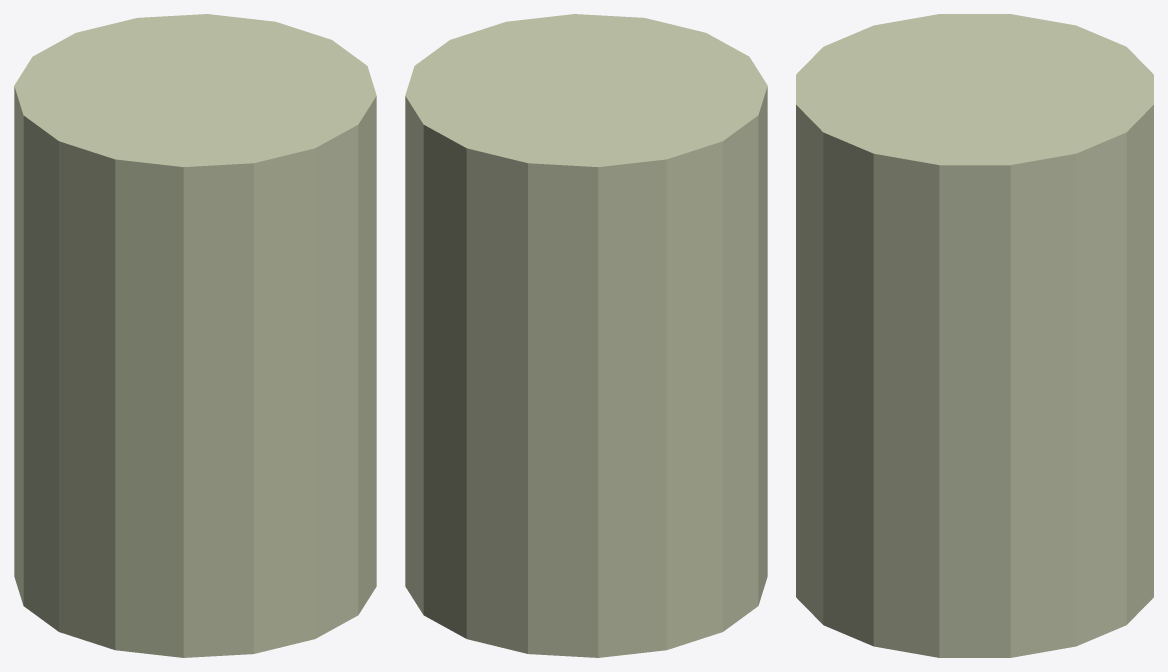
File: Knight_Engine_0_1_Collider.obj
The picture shows the model from 3 angles, left to right: view 1: azimuth 30°, elevation 25°; view 2: azimuth 150°, elevation 25°; view 3: azimuth 270°, elevation 25°; orthographic projection.
Visible parts, largest first — view 1: Knight_Engine_0_1_Collider; view 2: Knight_Engine_0_1_Collider; view 3: Knight_Engine_0_1_Collider.
Boxes of the visible parts, x1=… form: Knight_Engine_0_1_Collider: x1=14, y1=14, x2=376, y2=657; Knight_Engine_0_1_Collider: x1=405, y1=14, x2=767, y2=657; Knight_Engine_0_1_Collider: x1=796, y1=14, x2=1153, y2=657.
Size of the model in its own units: 0.625 by 0.95 by 0.625.
